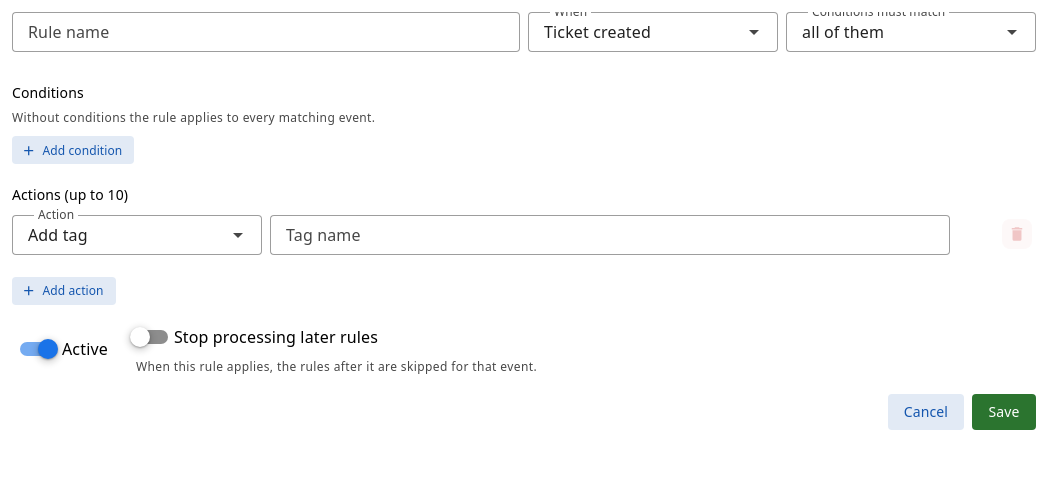
Test: RuleForm (FE-063, FE-005) › maps server list errors (conditions/actions) to an alert
Type "Time rule" into the field labelled "Rule name" at (266, 32), box 12,12 -> 520,52
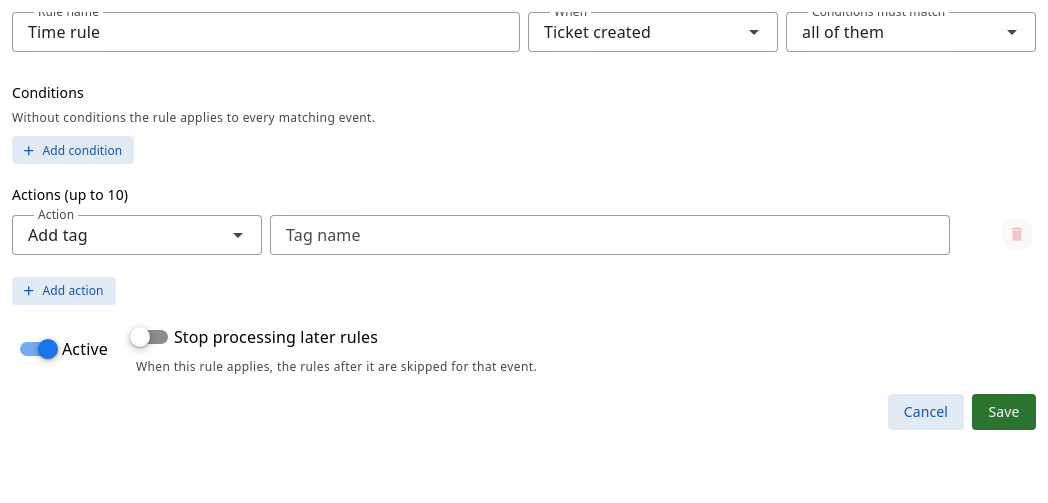
Type "stale" into the field labelled "Tag name" at (610, 235), box 270,215 -> 950,255
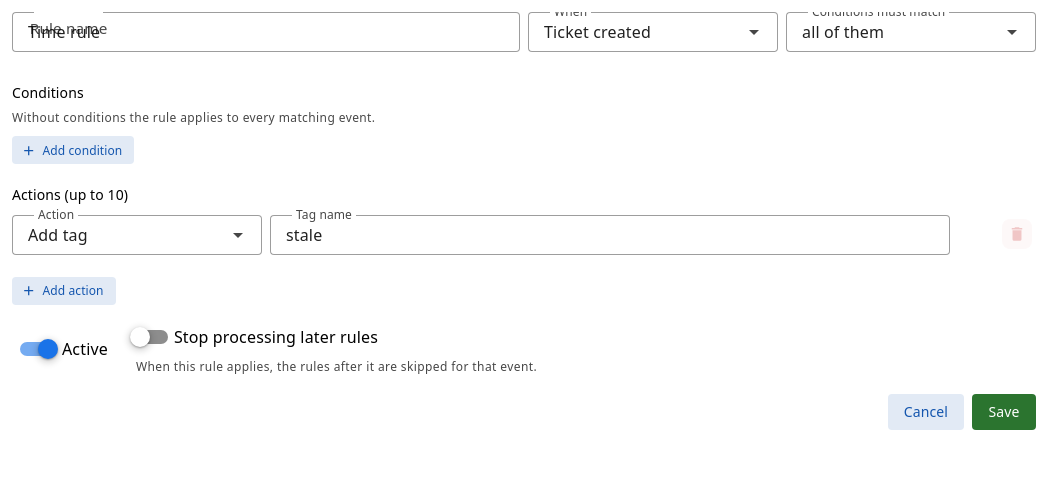
Click the button "Save" at (1004, 412), box 972,394 -> 1036,430
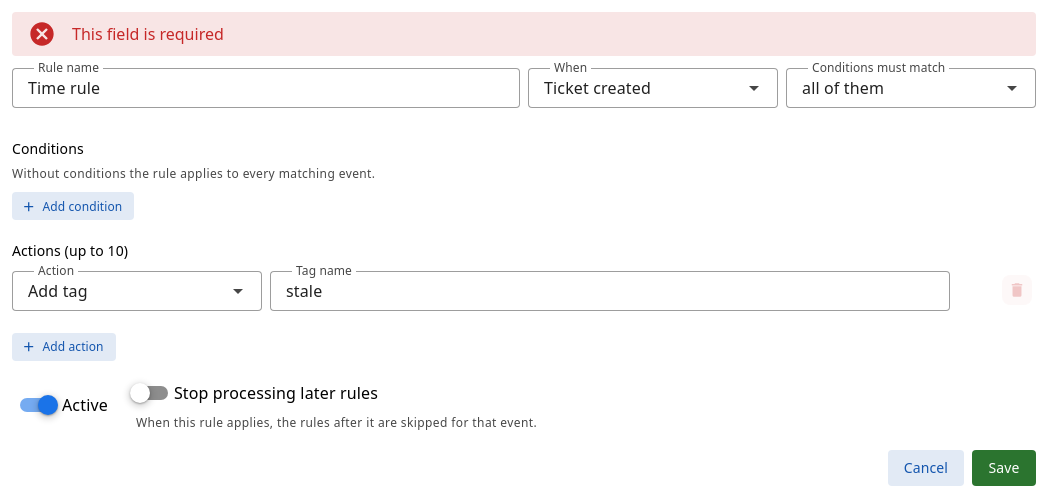
expect the message "This field is required" is shown: met, box 12,12 -> 1036,56
